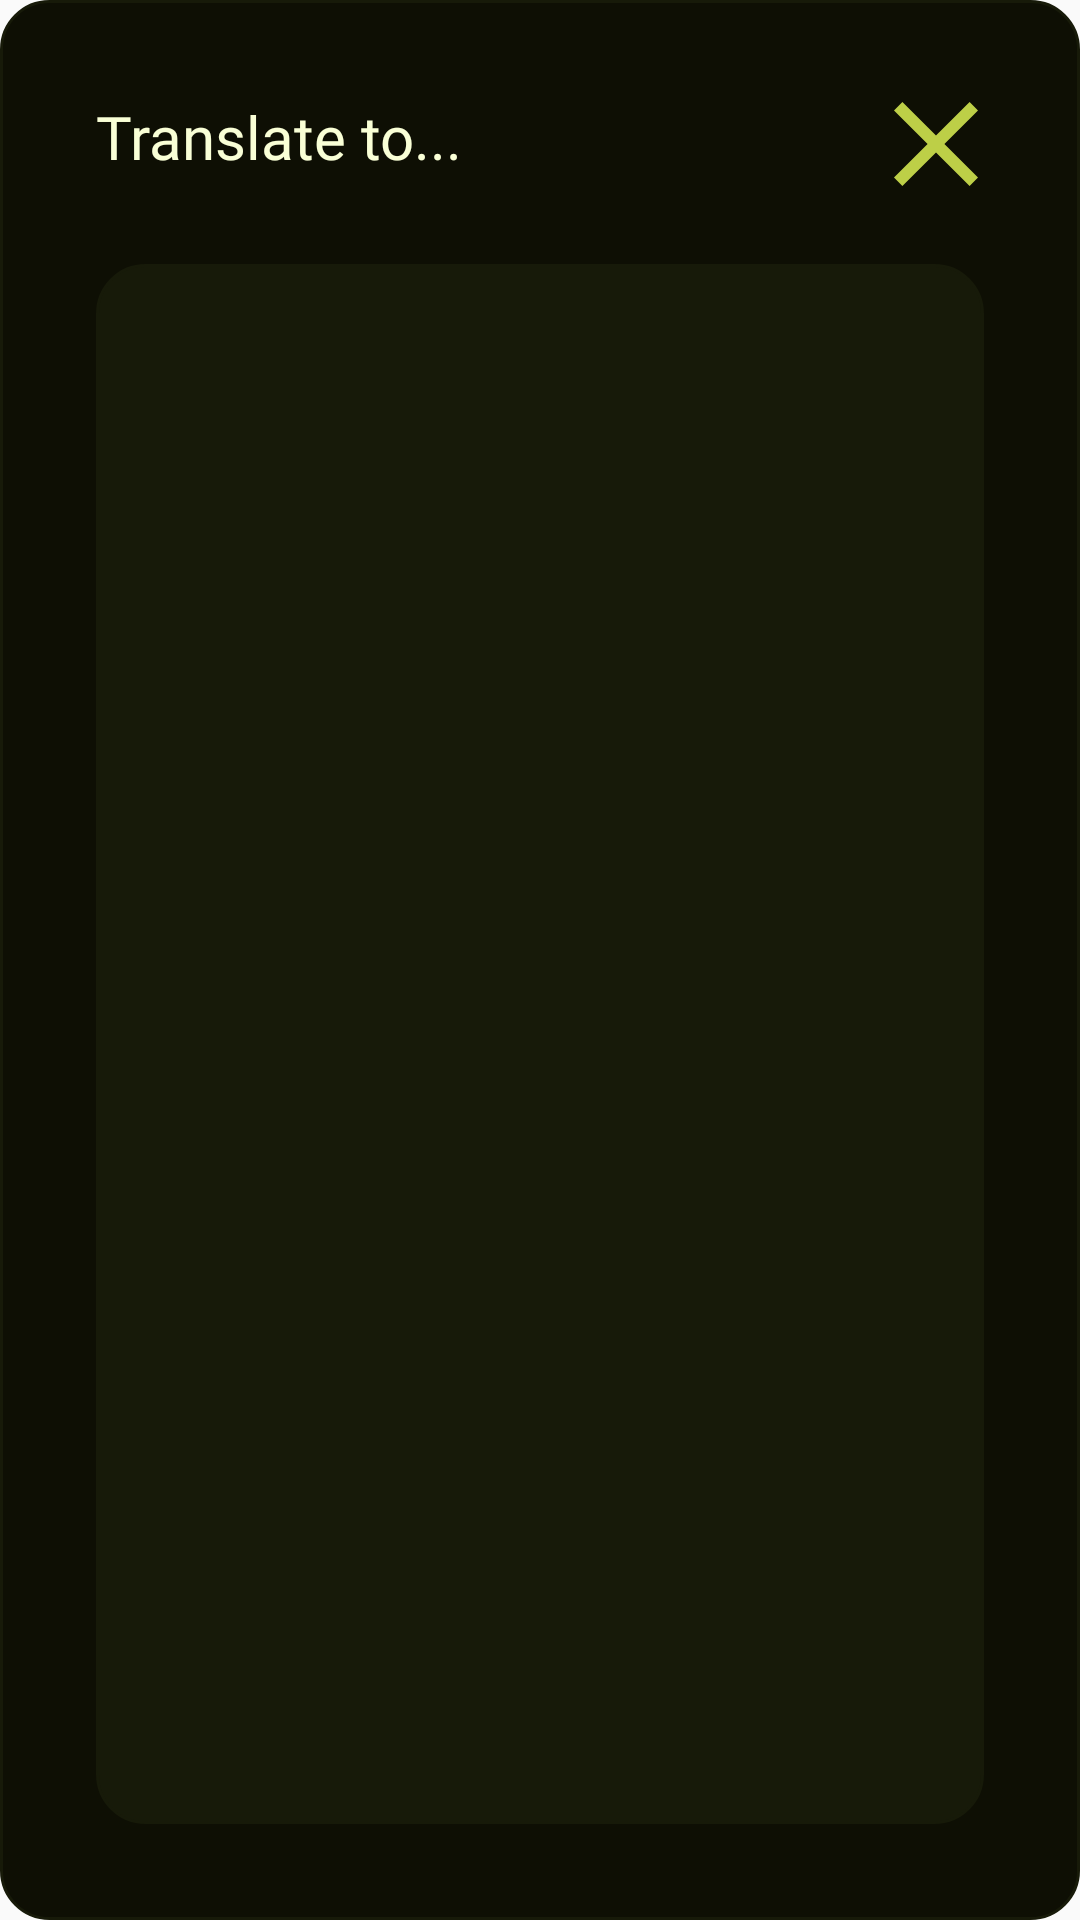

Where icons sit on this 1080px x 1920px app screen, as (x1, y1, x2, y2):
close: (894, 102, 978, 186)
